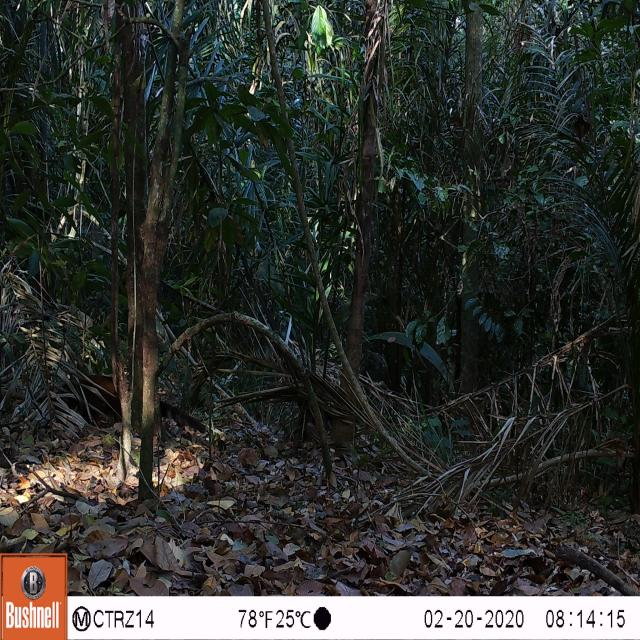South American Coati: (41, 364, 212, 442)
